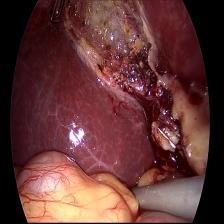Grasper: (46, 0, 69, 27)
Irrigator: (128, 182, 163, 215)
